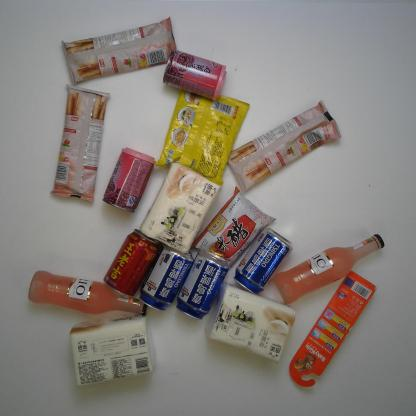Alcohol: (270, 230, 386, 308), (23, 266, 152, 319), (231, 224, 298, 298), (136, 240, 198, 313), (172, 249, 232, 323)
Canned Food: (100, 143, 159, 215), (161, 46, 230, 104)
Dessert: (226, 98, 347, 196), (58, 14, 180, 90), (48, 82, 112, 205)
Drink: (101, 224, 162, 300)
Instant Noodles: (150, 82, 254, 188)
Personal Hygiene: (286, 268, 380, 390)
Seasoner: (188, 183, 279, 273)
Tissue: (201, 278, 299, 366), (137, 160, 224, 255), (62, 310, 163, 391)
